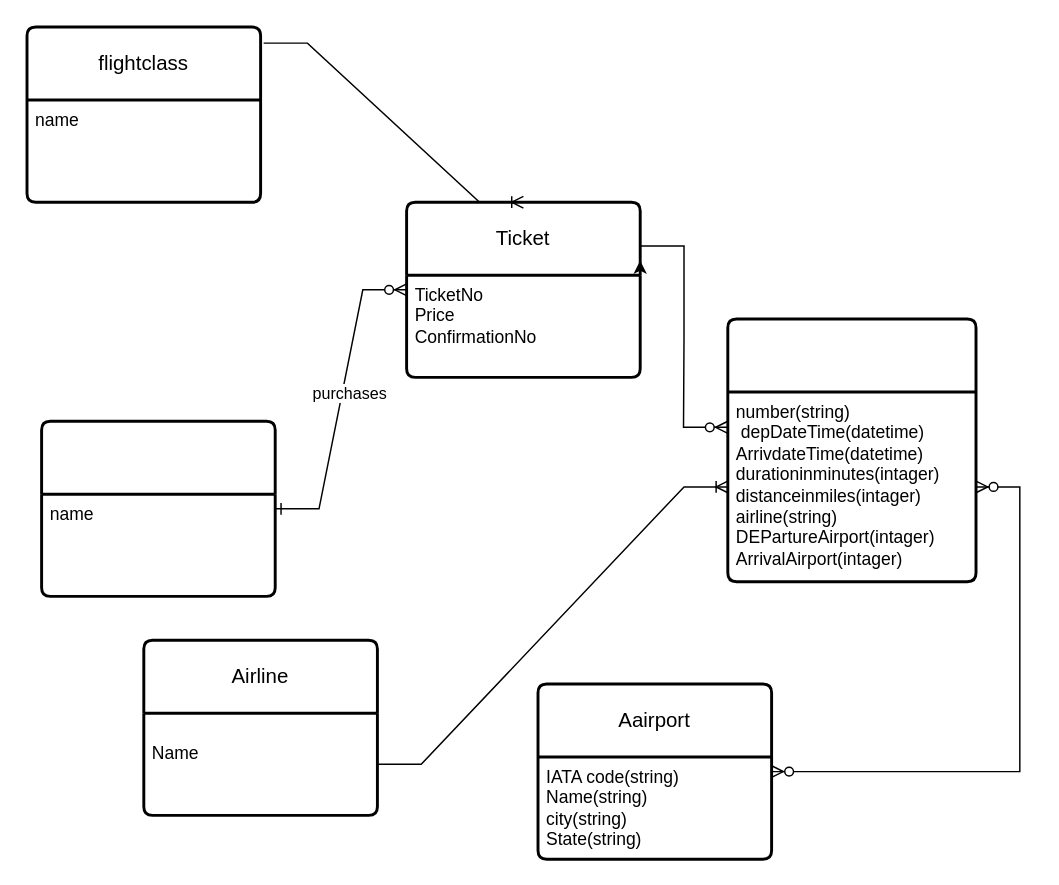
Image size: 1059x885. Some labels were removed from this diagram. The box of each missing label's shape, as (x1, y1, x2, y2) in pixels:
flight: (726, 317, 977, 583)
passenger: (39, 419, 276, 597)
